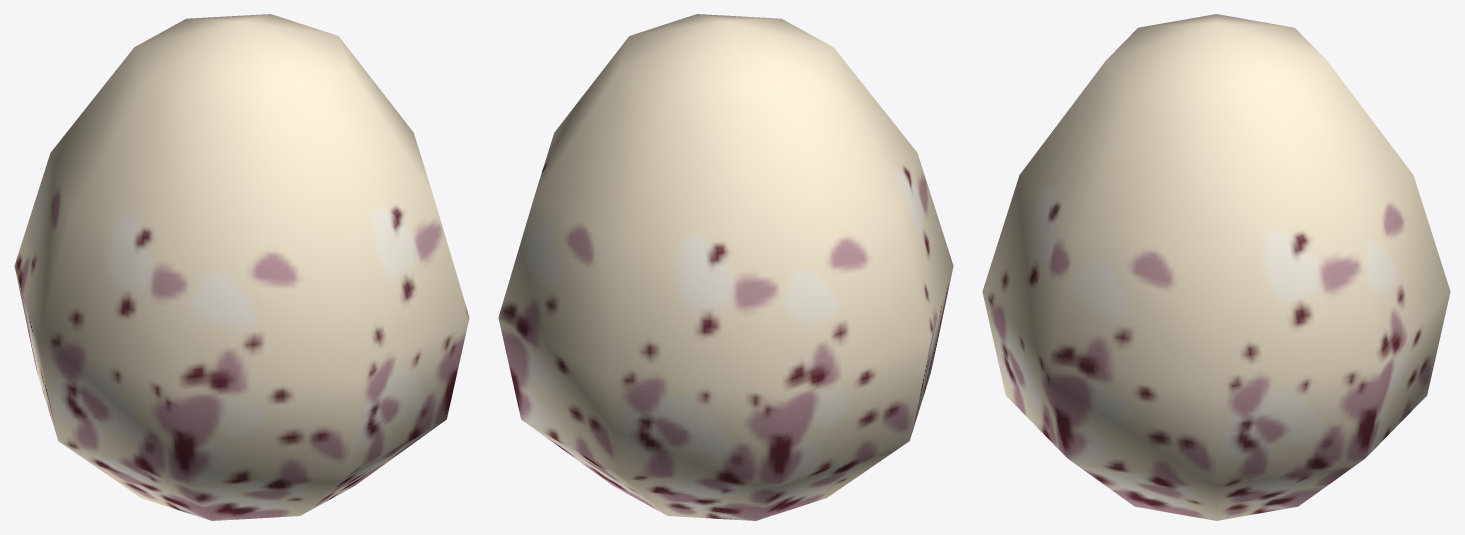
File: SM_ENV_birdnest_egg_ancient.fbx
The picture shows the model from 3 angles, left to right: view 1: azimuth 30°, elevation 25°; view 2: azimuth 150°, elevation 25°; view 3: azimuth 270°, elevation 25°; orthographic projection.
Visible parts, largest first — view 1: SM_ENV_birdnest_egg_ancient; view 2: SM_ENV_birdnest_egg_ancient; view 3: SM_ENV_birdnest_egg_ancient.
Boxes of the visible parts, x1,y1,x2,y2 form: SM_ENV_birdnest_egg_ancient: (14,14,469,520); SM_ENV_birdnest_egg_ancient: (498,14,953,520); SM_ENV_birdnest_egg_ancient: (982,14,1450,520).
Bounding box in the file's own units: 15.29 × 17 × 15.29.
